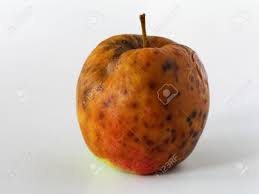damaged_apple: (76, 36, 211, 175)
